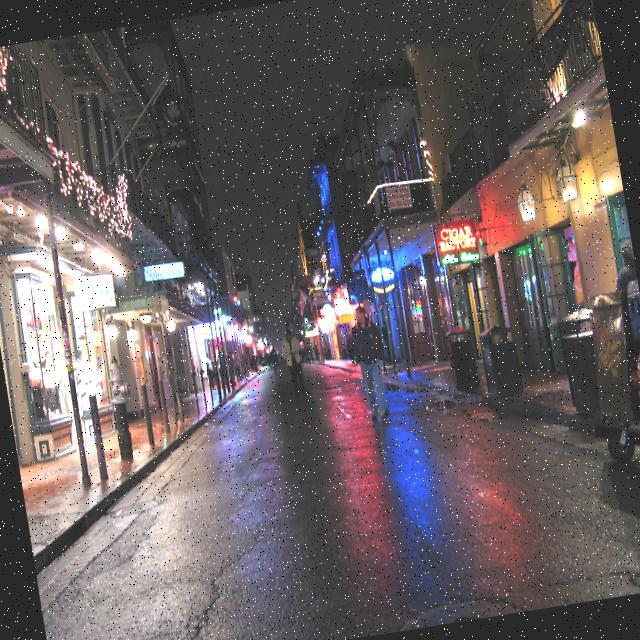fire_hydrant: (103, 352, 142, 461)
